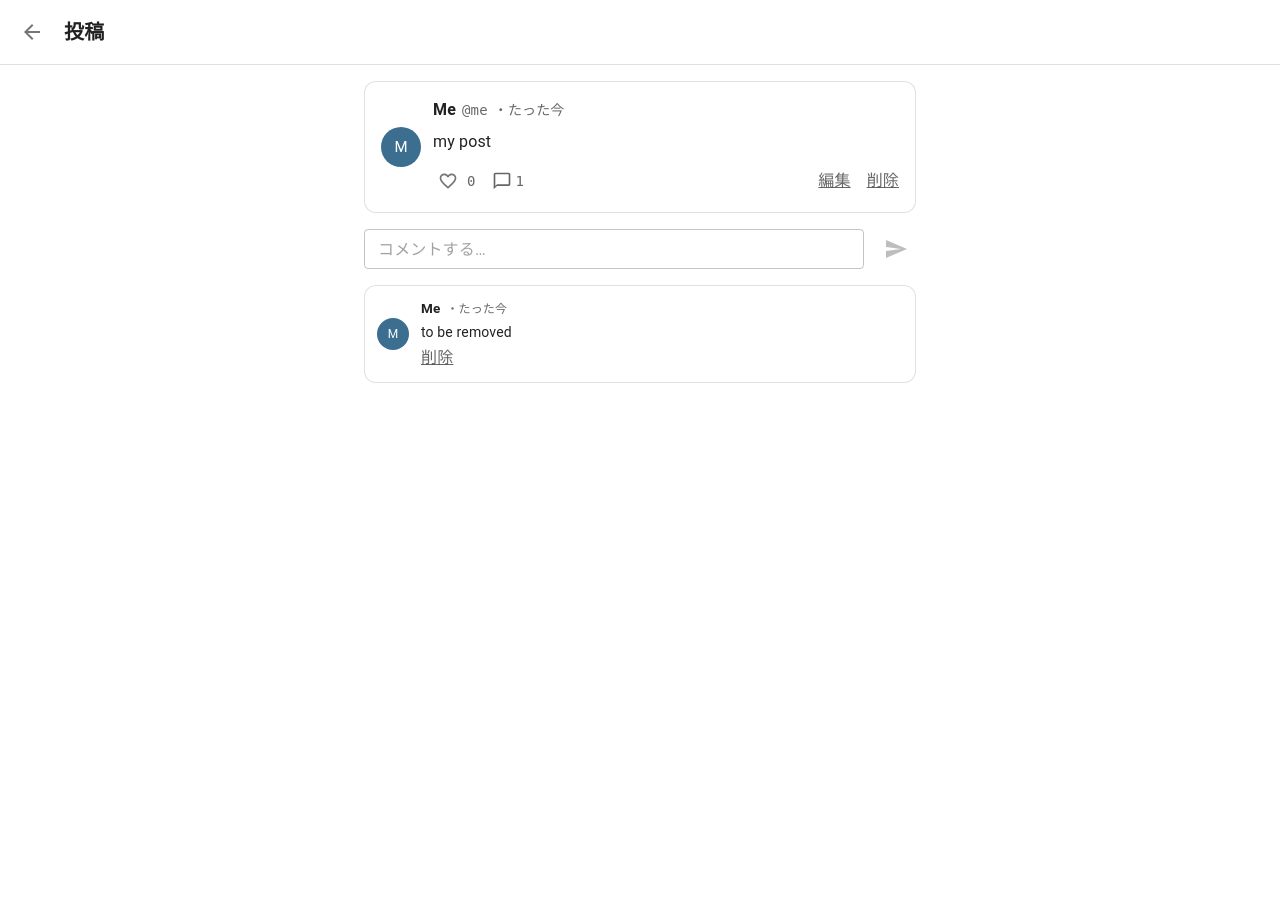
Test case: PostDetailPage › deletes own comment after confirming
The image size is (1280, 900).
Expected: the text "to be removed" is shown, [421, 324, 512, 340]
Click the button "削除" below "to be removed" at point(437, 358), box [421, 346, 453, 370]
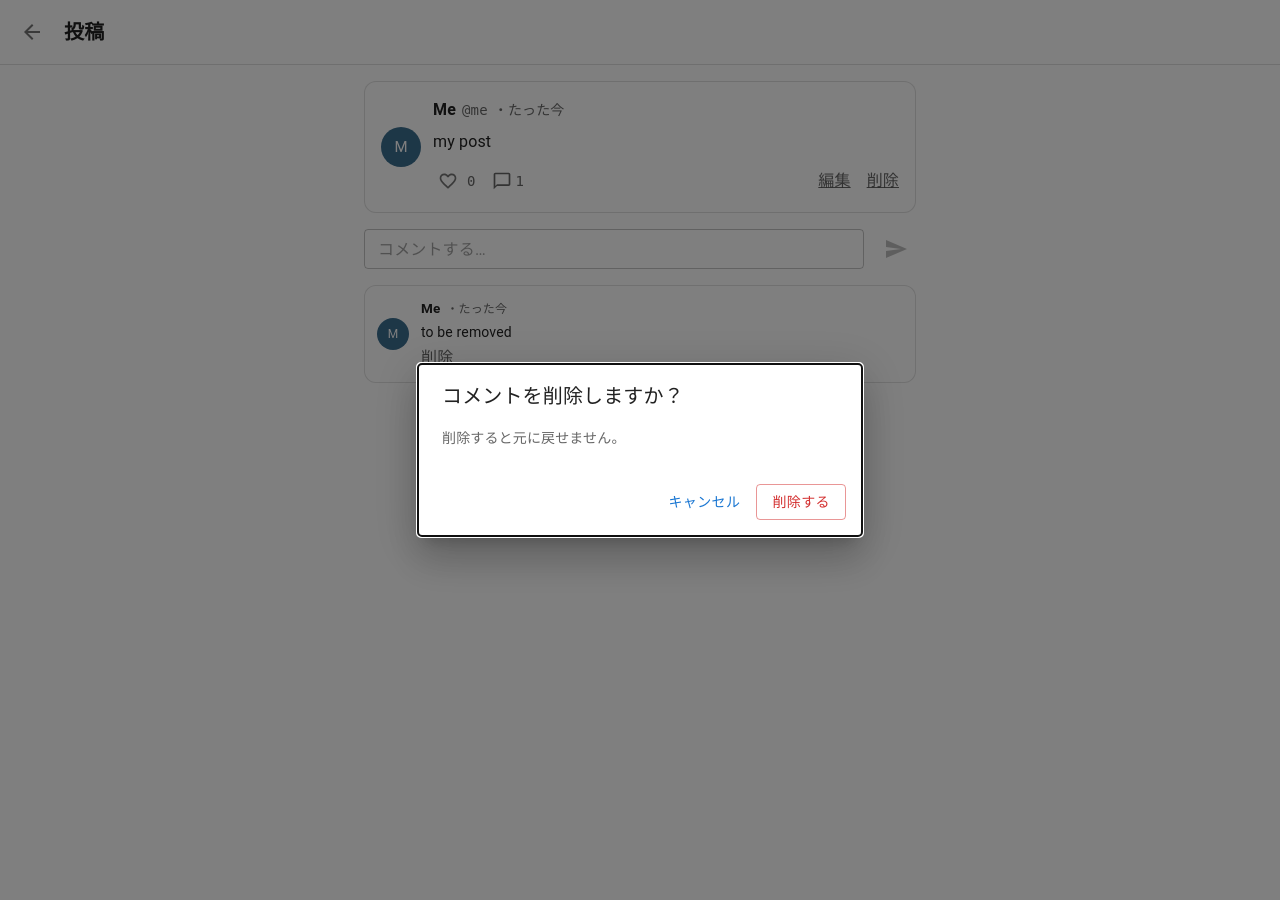
Click the button "削除する" at point(801, 502), box [756, 484, 846, 520]
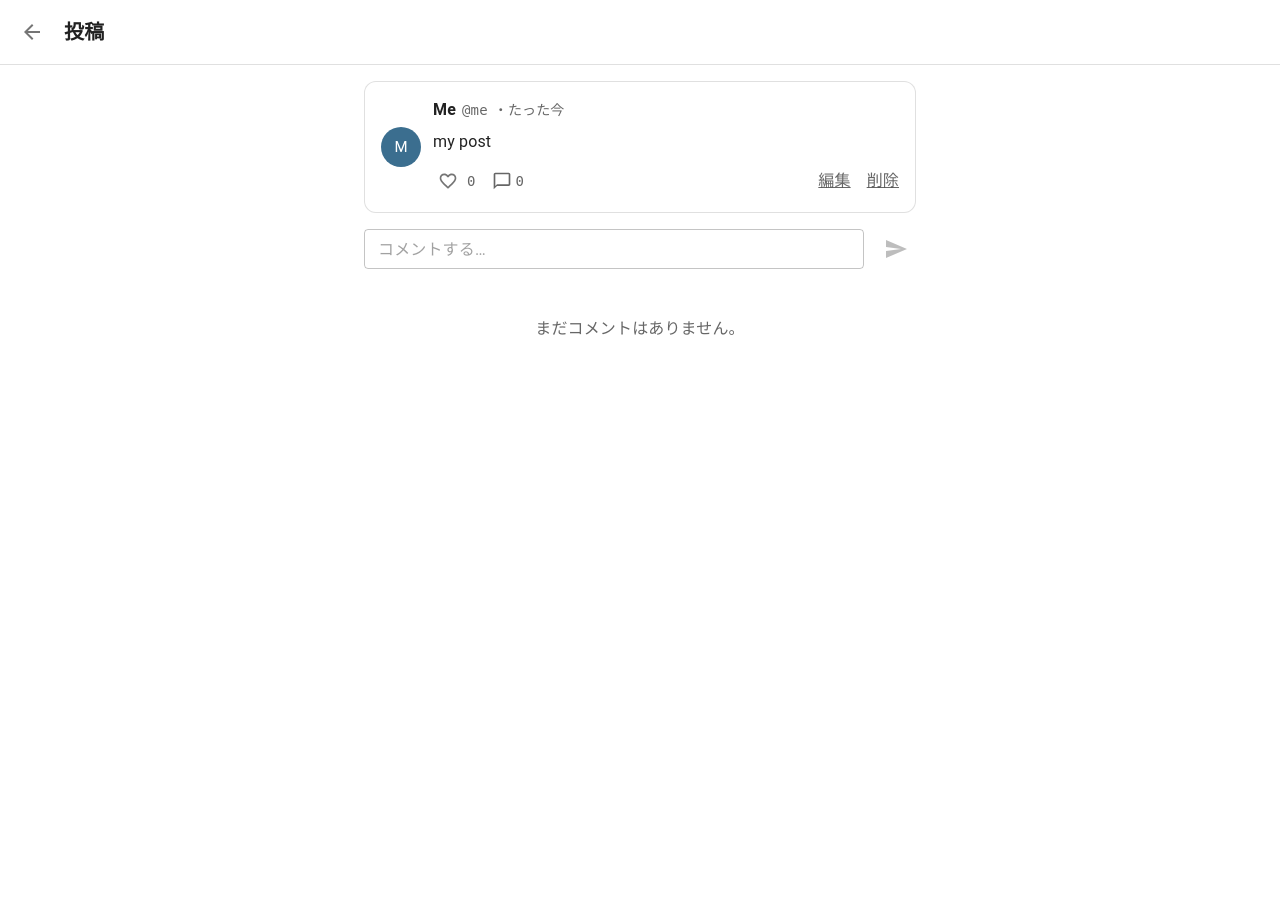
Expected: the text "to be removed" is gone
